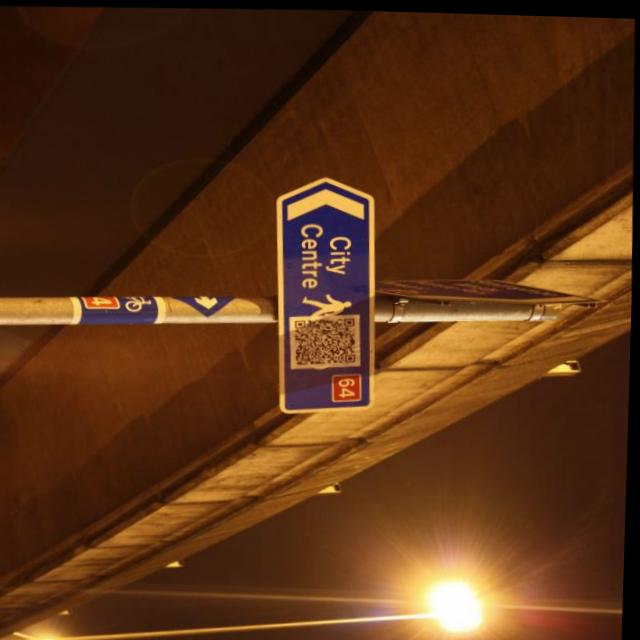qrcode: (295, 316, 357, 365)
